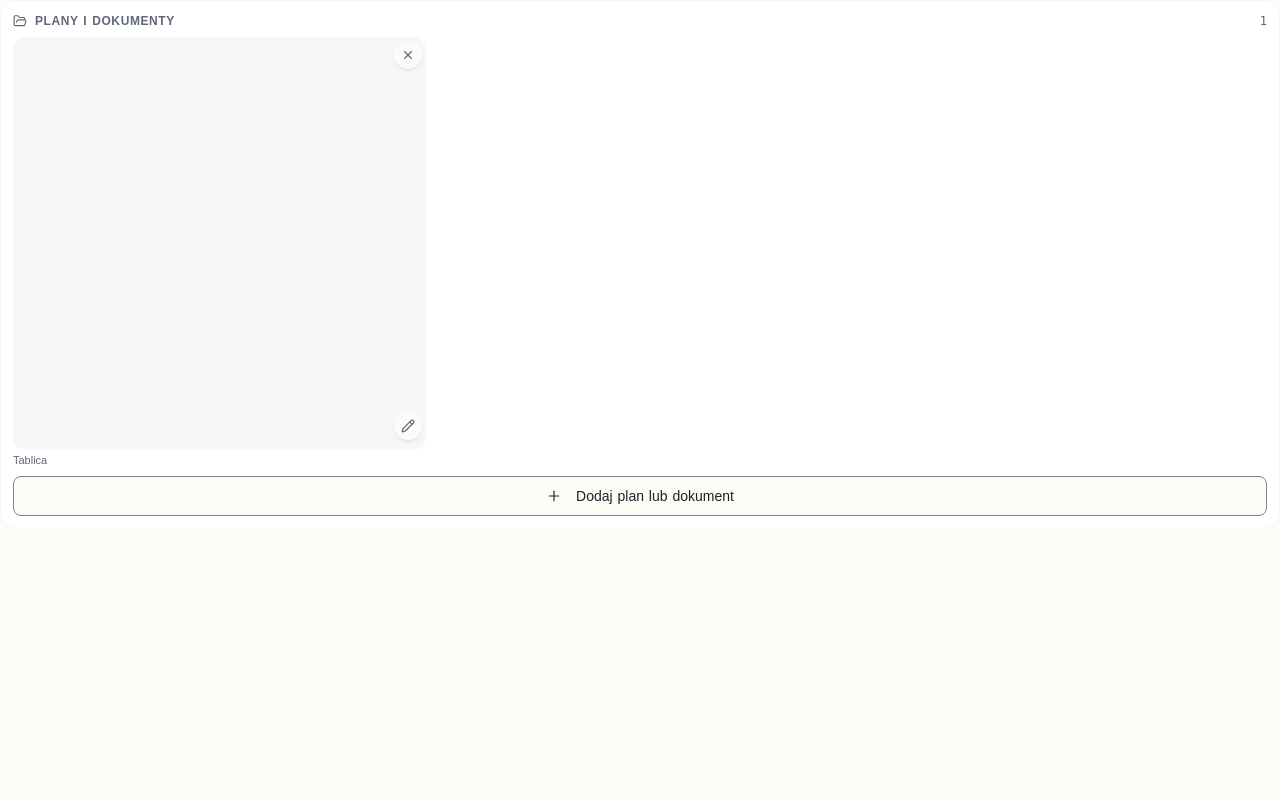
Scenario: SiteDocsPanel — plany i dokumenty › powiększenie otwiera podgląd z przełącznikiem 100%
Click the button named "Powiększ: Tablica": (219, 243) left=13, top=37, right=426, bottom=450
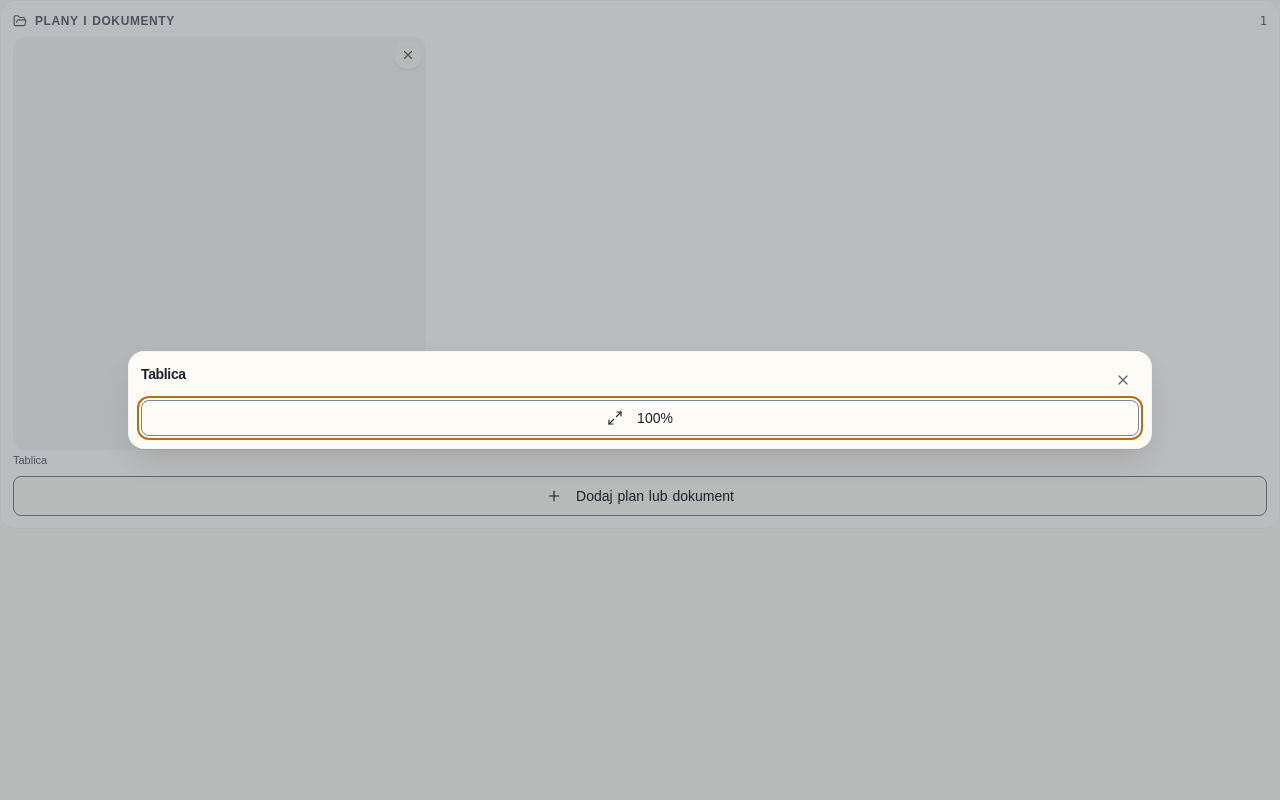
Click the button "100%": (640, 418) left=141, top=400, right=1139, bottom=436
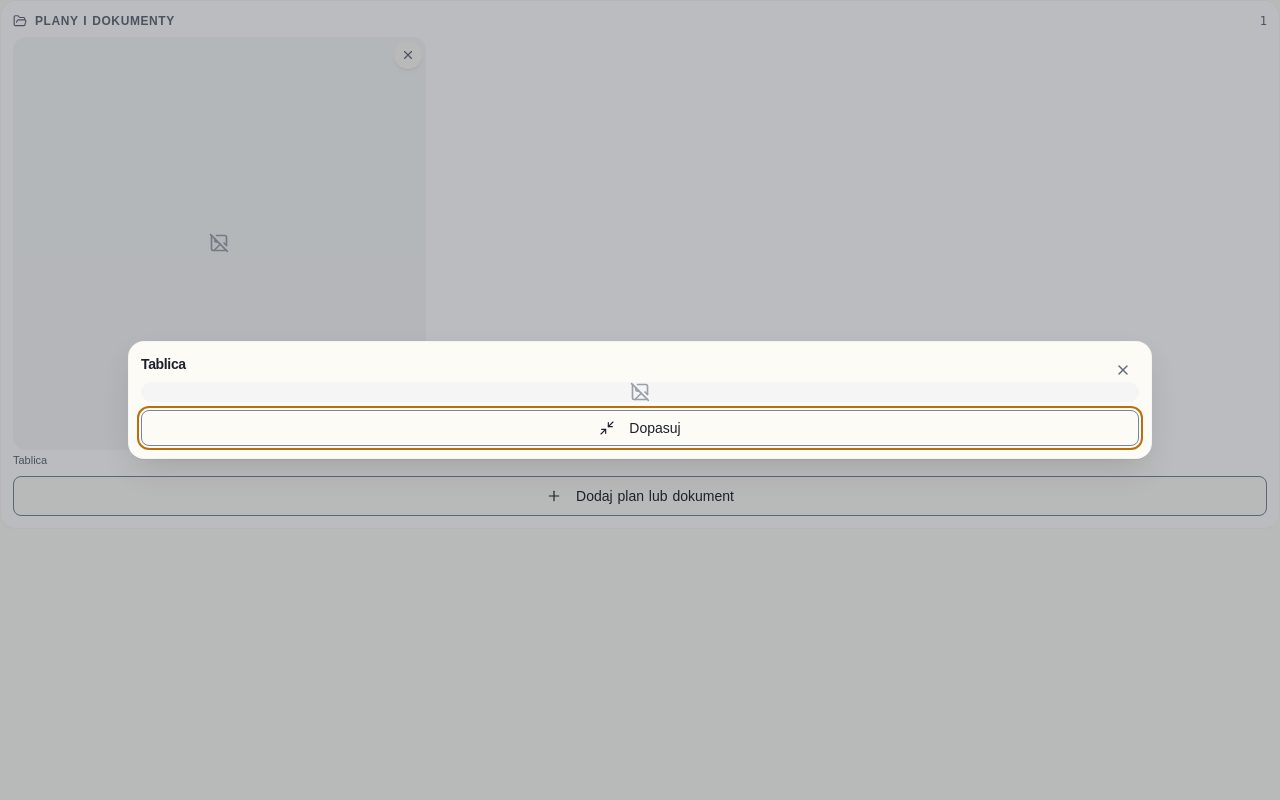
Result: the button "Dopasuj" is shown at left=141, top=410, right=1139, bottom=446
